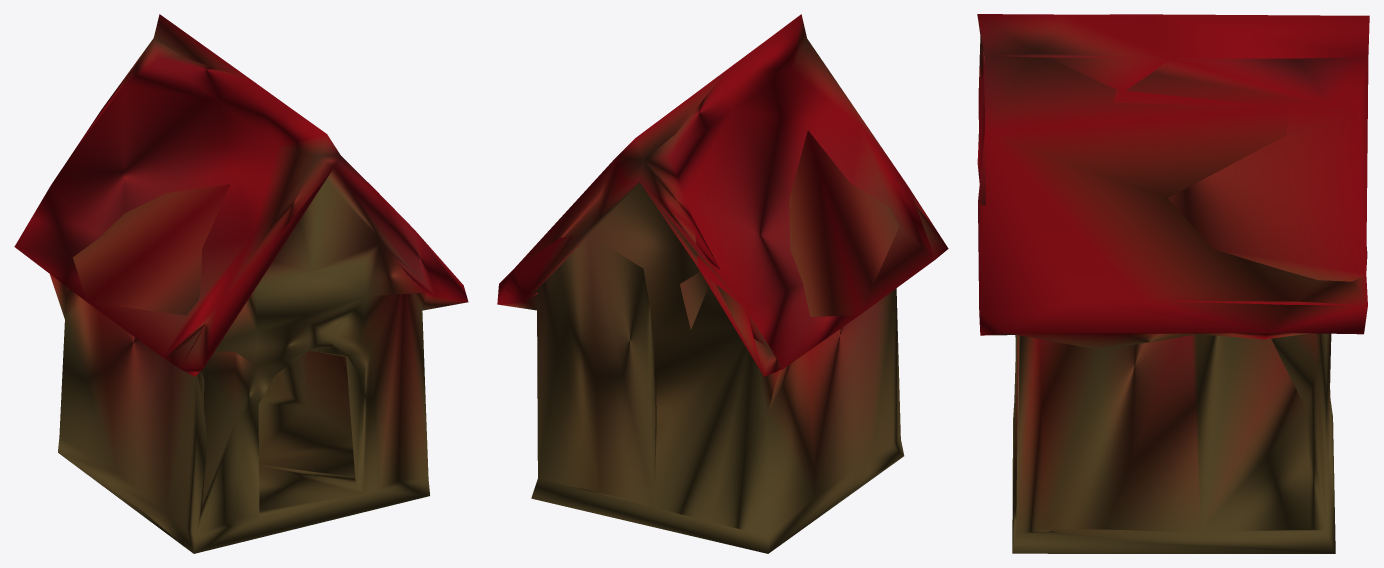
File: gen3d-dog-kennel-lod1.glb
The picture shows the model from 3 angles, left to right: view 1: azimuth 30°, elevation 25°; view 2: azimuth 150°, elevation 25°; view 3: azimuth 270°, elevation 25°; orthographic projection. The views are drawn at different scales.
Parts seen in each view (by area): view 1: part_0; view 2: part_0; view 3: part_0.
Boxes of the visible parts, left/top/right/bottom form: part_0: left=14, top=14, right=468, bottom=553; part_0: left=497, top=14, right=948, bottom=553; part_0: left=977, top=14, right=1369, bottom=553.
Bounding box in the file's own units: 0.7712 × 0.9987 × 0.7483.
